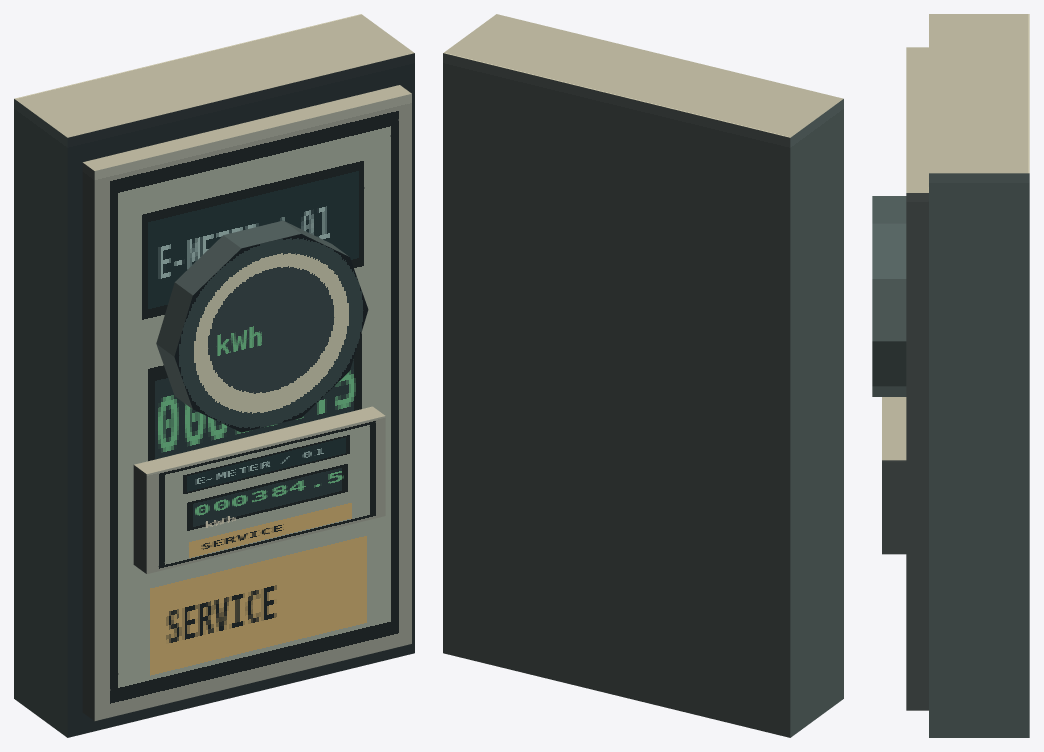
File: medidor_electrico.glb
3 views of the same model, side by side, from view 1: azimuth 30°, elevation 25°; view 2: azimuth 150°, elevation 25°; view 3: azimuth 270°, elevation 25° (orthographic). The views are drawn at different scales.
Parts seen in each view (by area): view 1: ELECTRICO; view 2: ELECTRICO; view 3: ELECTRICO.
Part boxes in pixels (box(x1,y1,x2,y2)): ELECTRICO: box(14, 14, 414, 737); ELECTRICO: box(443, 14, 843, 737); ELECTRICO: box(872, 14, 1029, 737).
Size of the model in its own units: 0.3543 by 0.5852 by 0.1478.
1 material, 1 textured.
